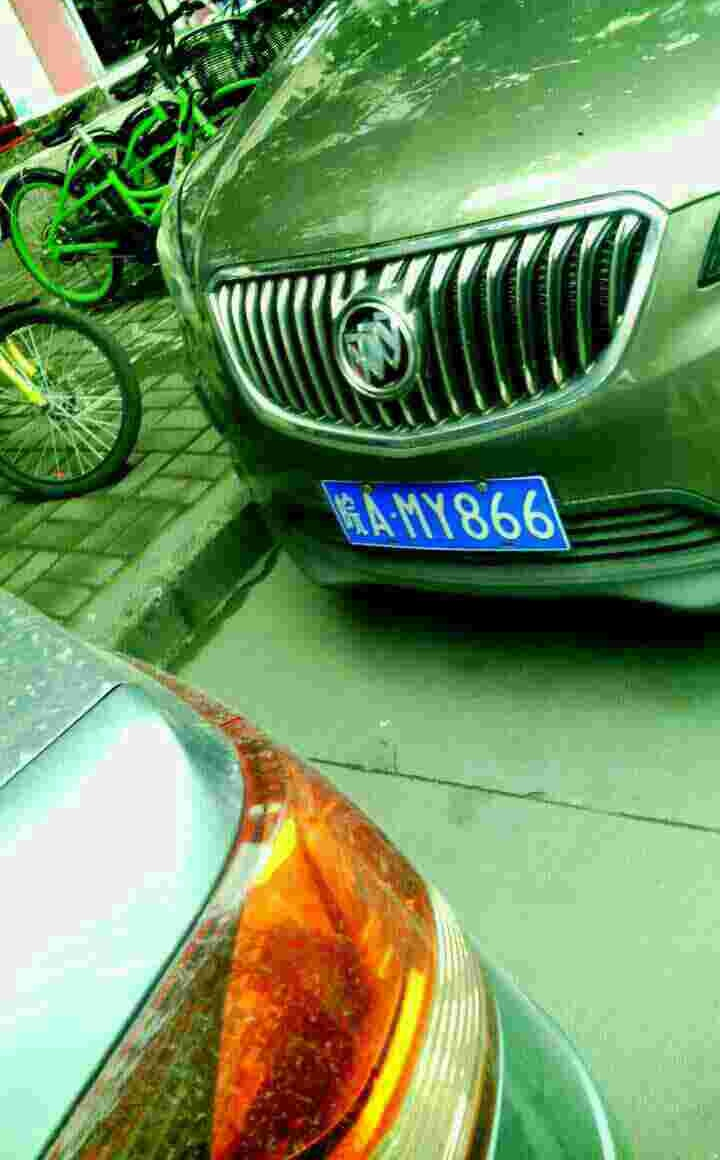plate: (312, 477, 575, 553)
